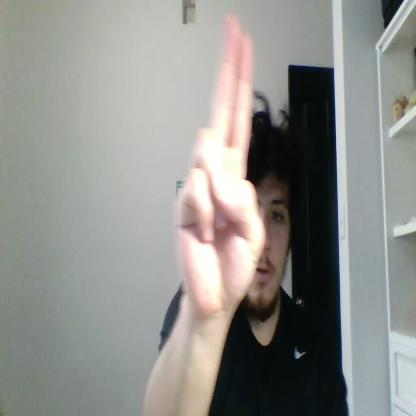U: (175, 16, 265, 316)
